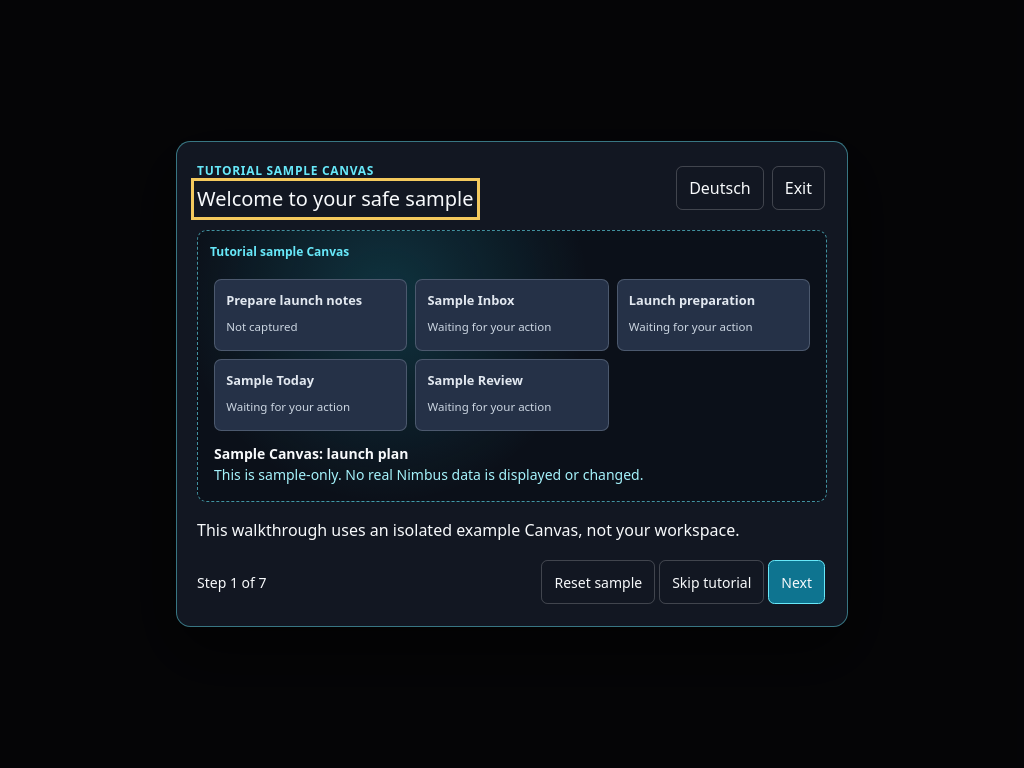
Test: CommandCenterTutorial interactions › keeps the exact sample checkpoint while switching language in the dialog
Step 1. Click the button "Next" → point(797, 582), box [768, 560, 825, 604]
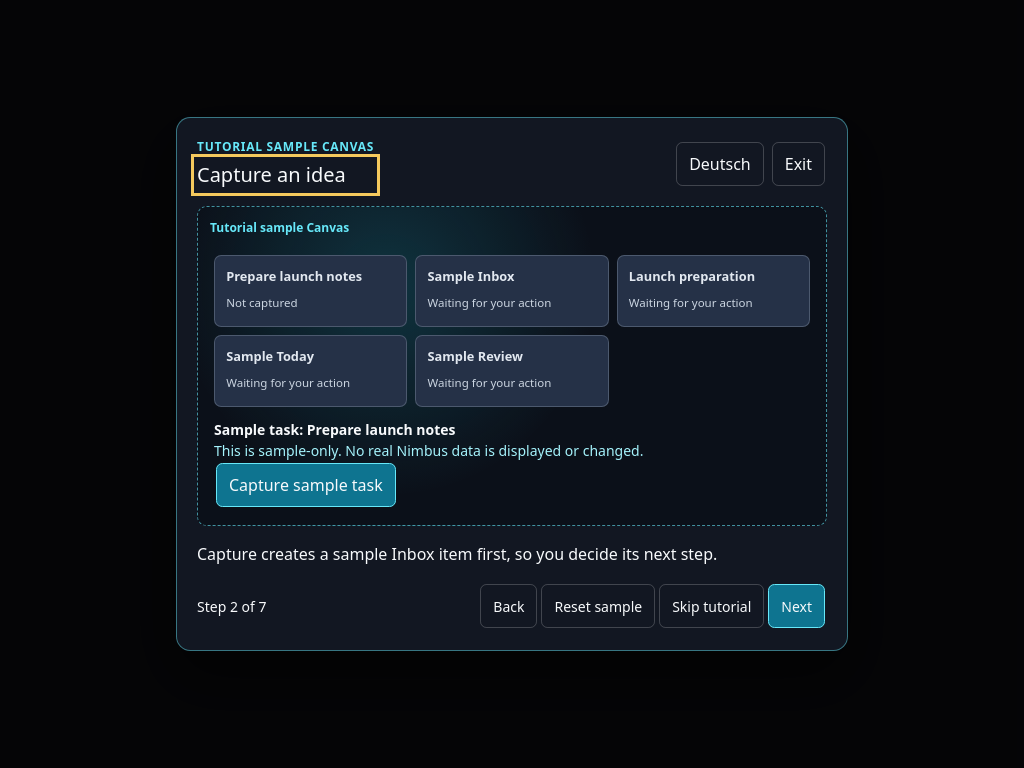
Step 2. Click the button "Capture sample task" → point(306, 485), box [216, 463, 396, 507]
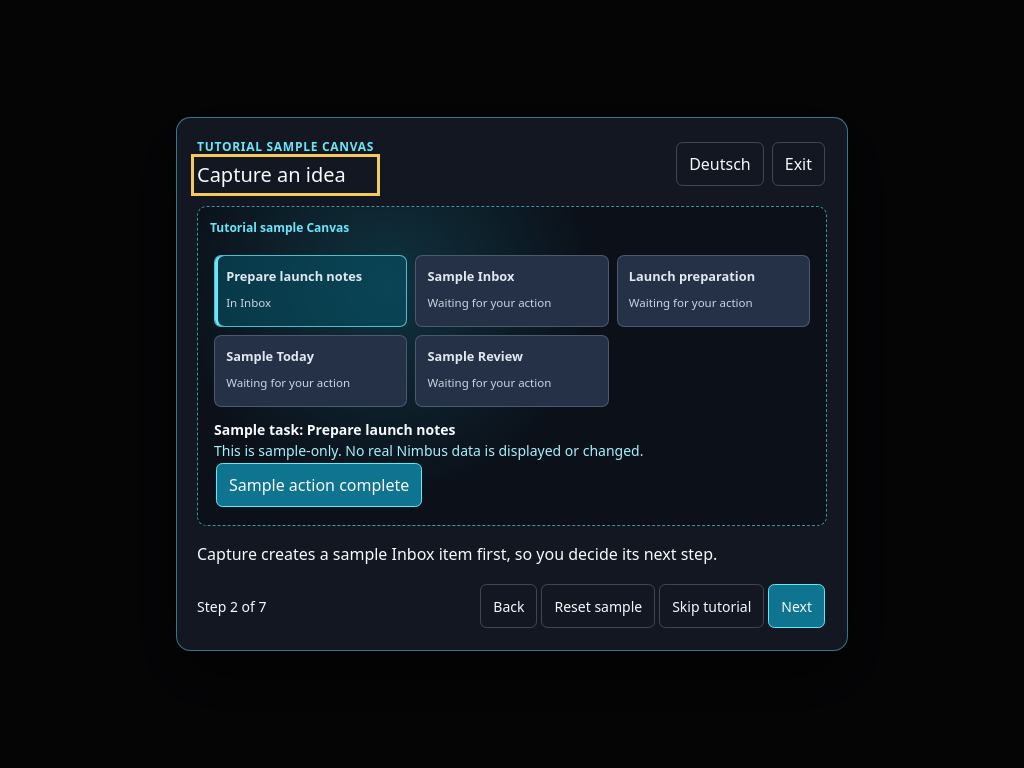
Step 3. Click the button "Deutsch" → point(720, 164), box [676, 142, 764, 186]
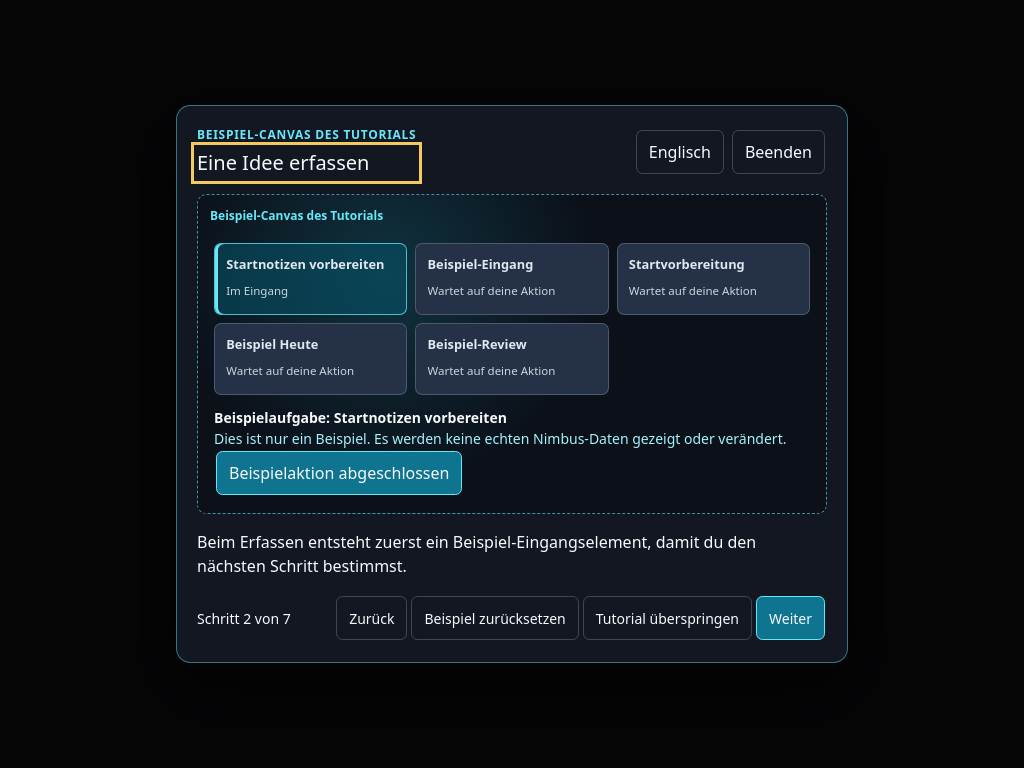
Now the text "Eine Idee erfassen" is shown, box [197, 149, 369, 176]
